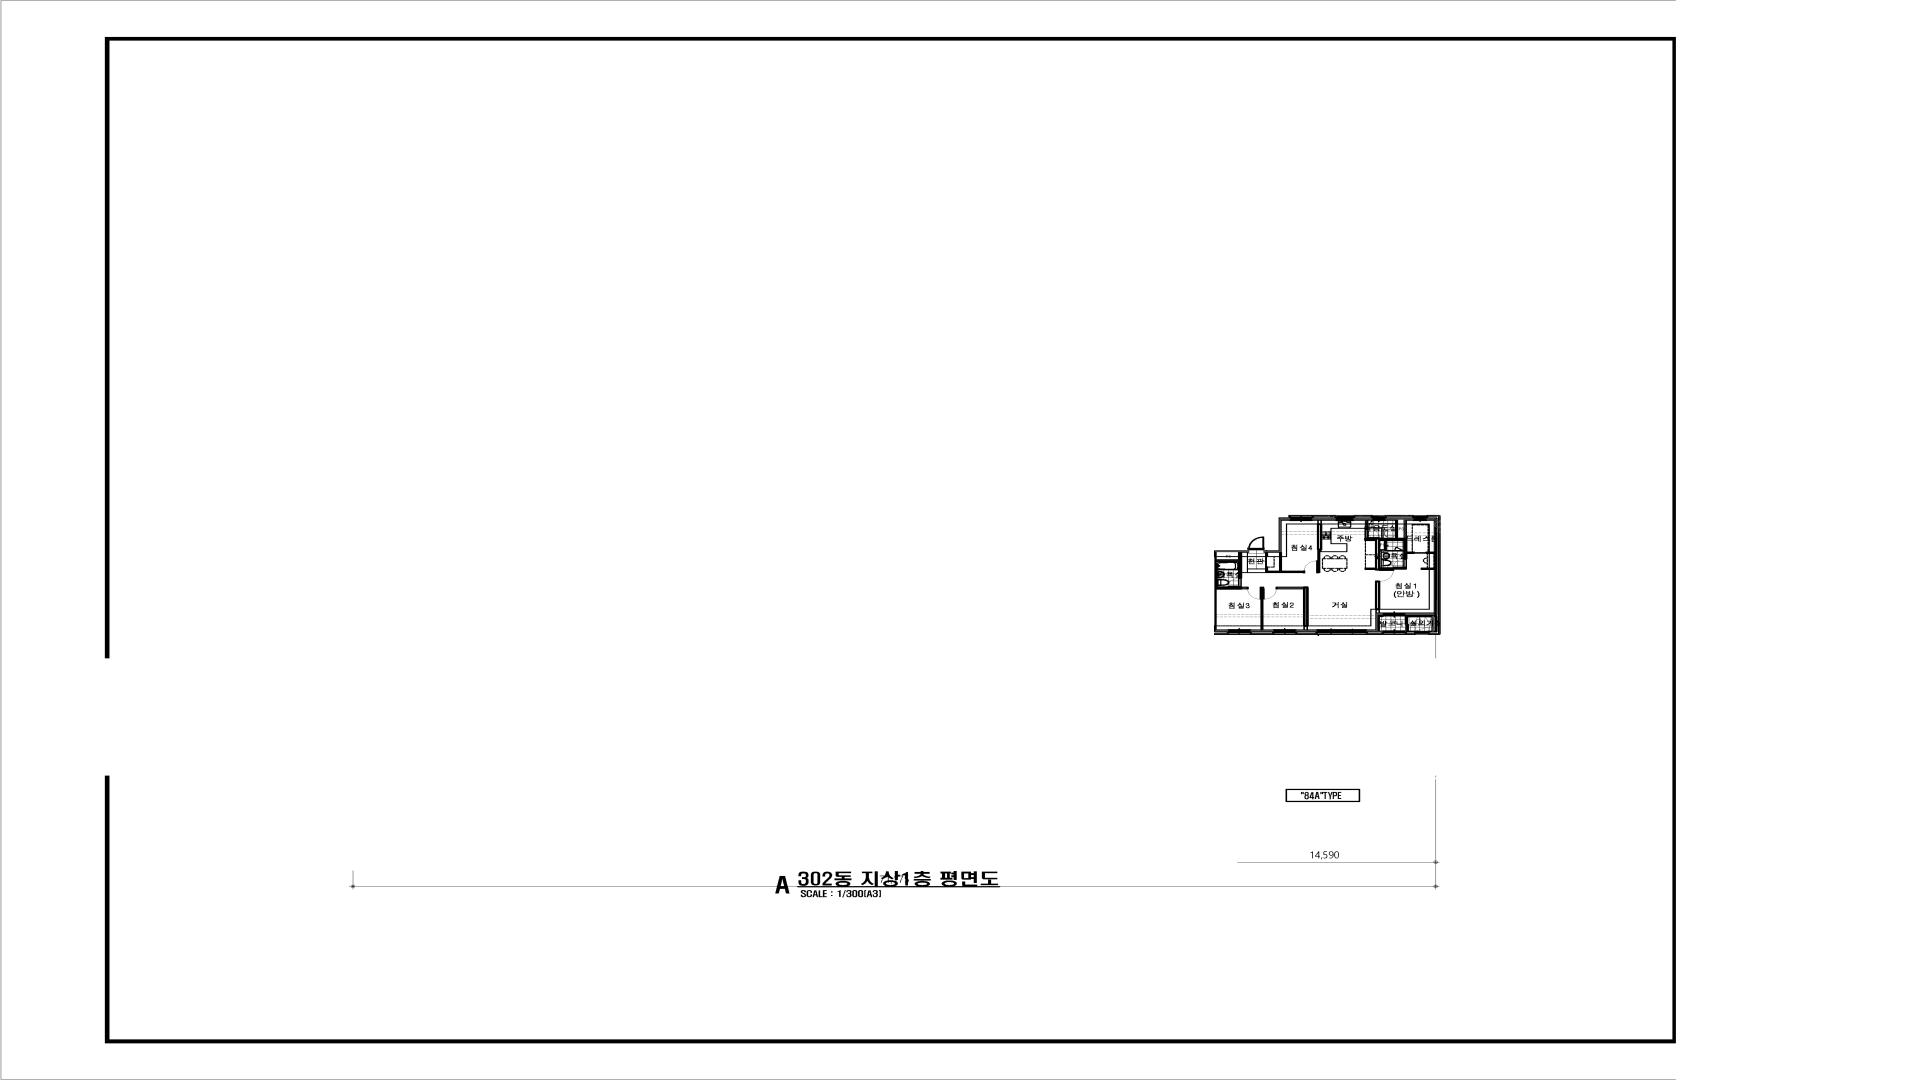door: (1247, 537, 1265, 550), (1375, 570, 1394, 582), (1303, 560, 1317, 574), (1247, 587, 1261, 600), (1263, 587, 1276, 600), (1365, 529, 1379, 538), (1404, 616, 1418, 625), (1229, 579, 1242, 587), (1394, 559, 1407, 567), (1394, 547, 1403, 551), (1265, 556, 1267, 567), (1415, 553, 1425, 554)
wall: (1404, 516, 1440, 634), (1215, 550, 1249, 636), (1364, 521, 1415, 570), (1276, 587, 1317, 634), (1263, 517, 1290, 553), (1366, 582, 1383, 634), (1265, 553, 1304, 574), (1312, 516, 1336, 550), (1217, 553, 1247, 579), (1386, 514, 1414, 521), (1251, 629, 1274, 634), (1261, 587, 1263, 629), (1404, 625, 1416, 634), (1353, 516, 1373, 521), (1217, 587, 1247, 589), (1317, 550, 1320, 574), (1420, 567, 1433, 570), (1365, 521, 1369, 529), (1425, 551, 1433, 554), (1265, 553, 1269, 556)
window: (1317, 629, 1366, 634), (1228, 629, 1251, 636), (1290, 514, 1312, 521), (1274, 629, 1296, 634), (1336, 516, 1353, 521), (1414, 514, 1427, 521), (1383, 630, 1404, 634), (1383, 613, 1404, 617), (1373, 516, 1386, 521), (1416, 630, 1428, 634)
